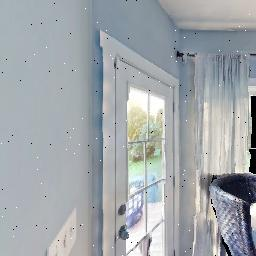door: (95, 30, 188, 256)
